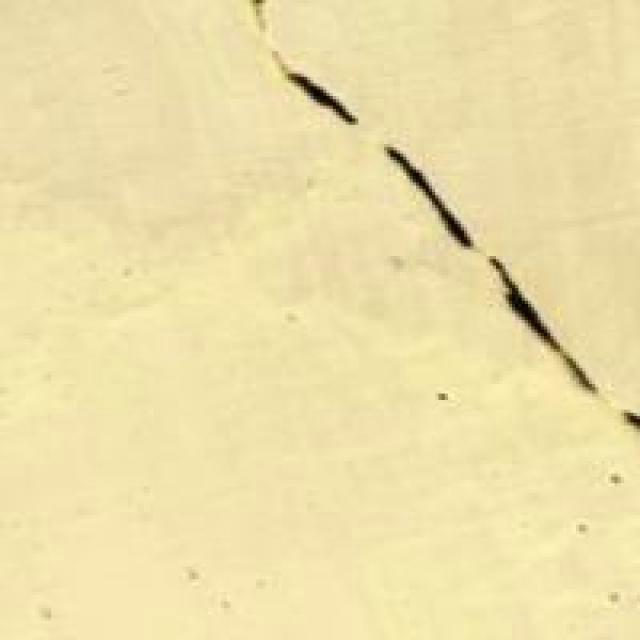crack: (228, 0, 640, 444)
